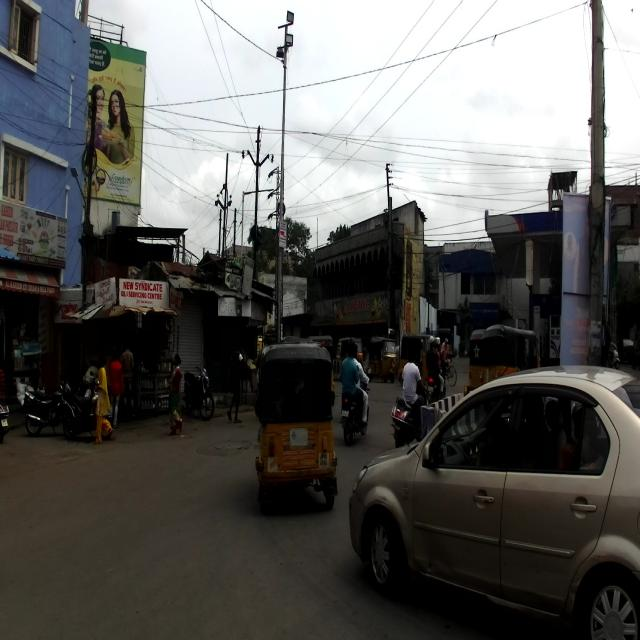Car_Ford: (348, 366, 640, 638)
autorickshaw: (252, 343, 338, 508), (483, 322, 540, 387)
motorcycle_bajaj: (23, 381, 80, 442)
scooter: (390, 371, 426, 452)
